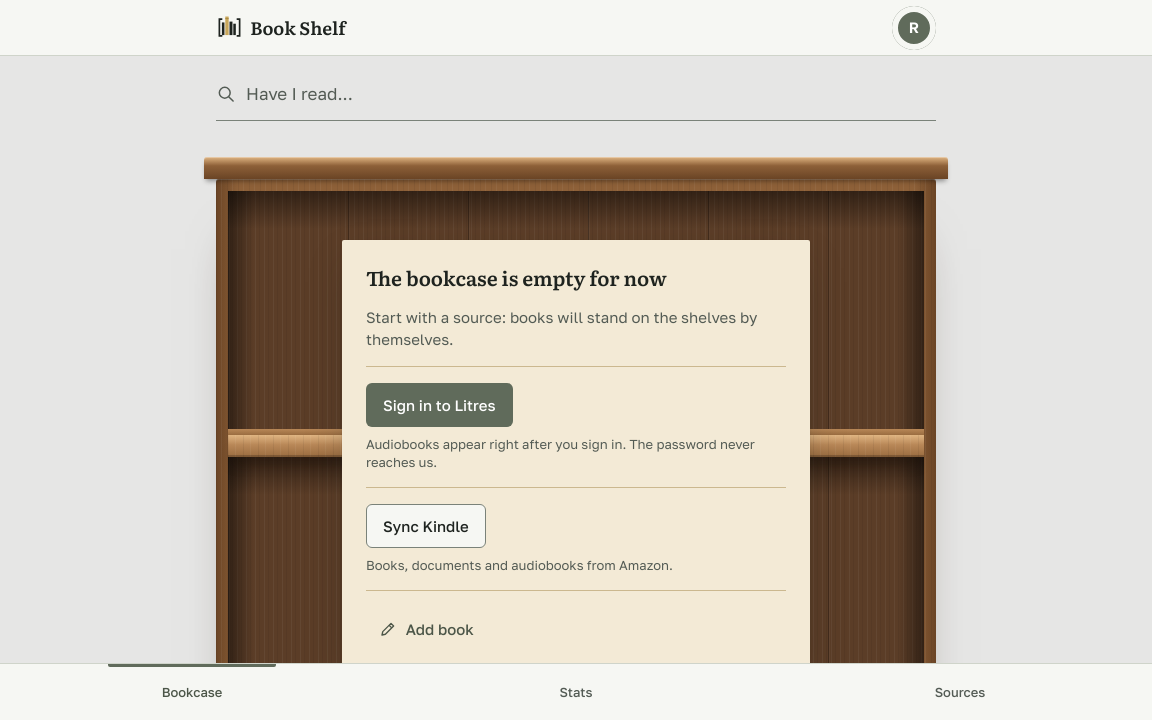
it: App shell › navigates between tabs
Step 1. Click the link "Sources" → (960, 692), box [935,684,985,700]
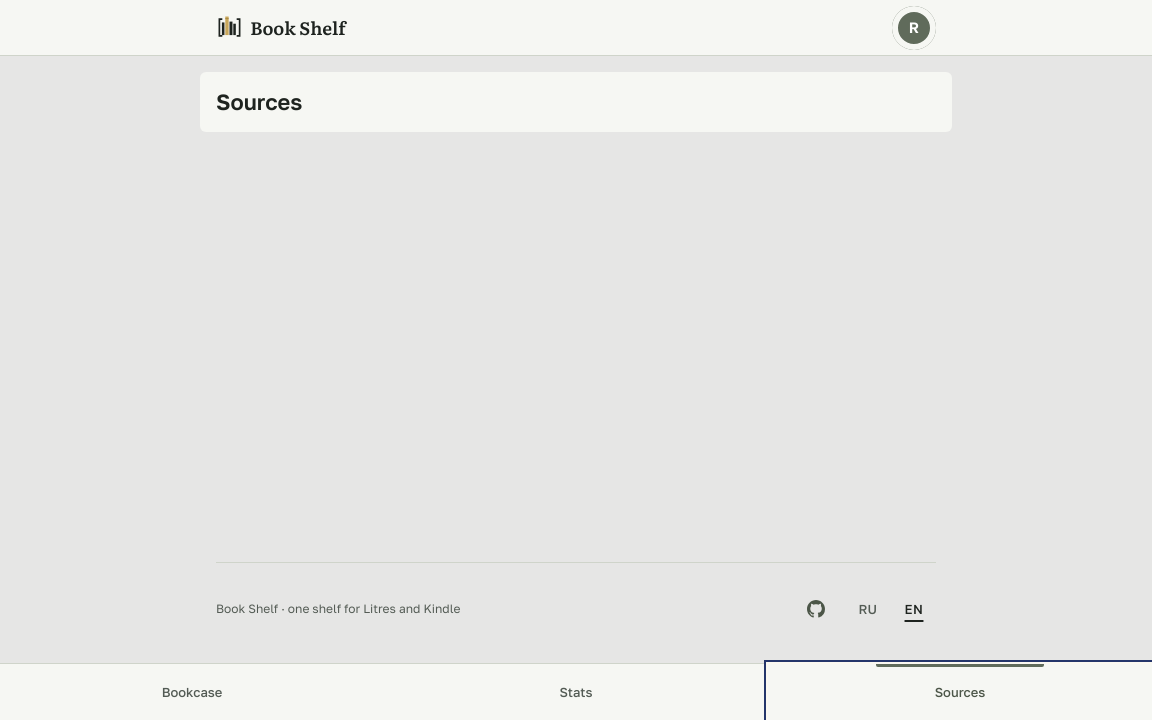
Now the heading "Sources" is shown, box [216,88,302,115]
